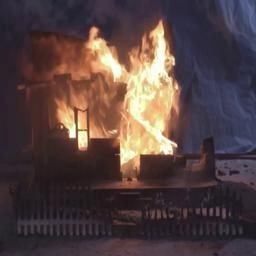fire: (36, 16, 189, 183)
